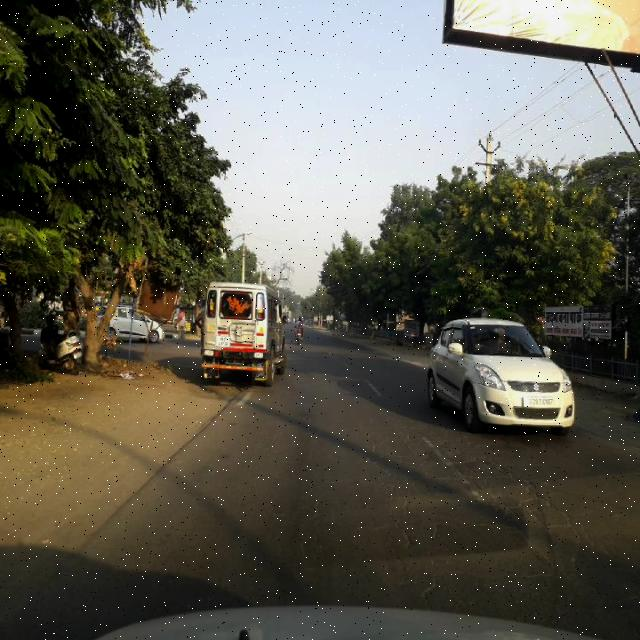D20: (397, 454, 610, 588)
D44: (416, 431, 488, 508)
